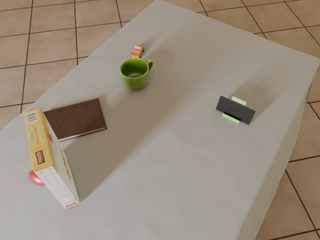book: (43, 98, 107, 142)
box: (23, 107, 79, 209)
cup: (120, 58, 153, 89)
mouse: (29, 170, 45, 186)
phone: (216, 96, 255, 125)
toy_car: (132, 45, 145, 58)
